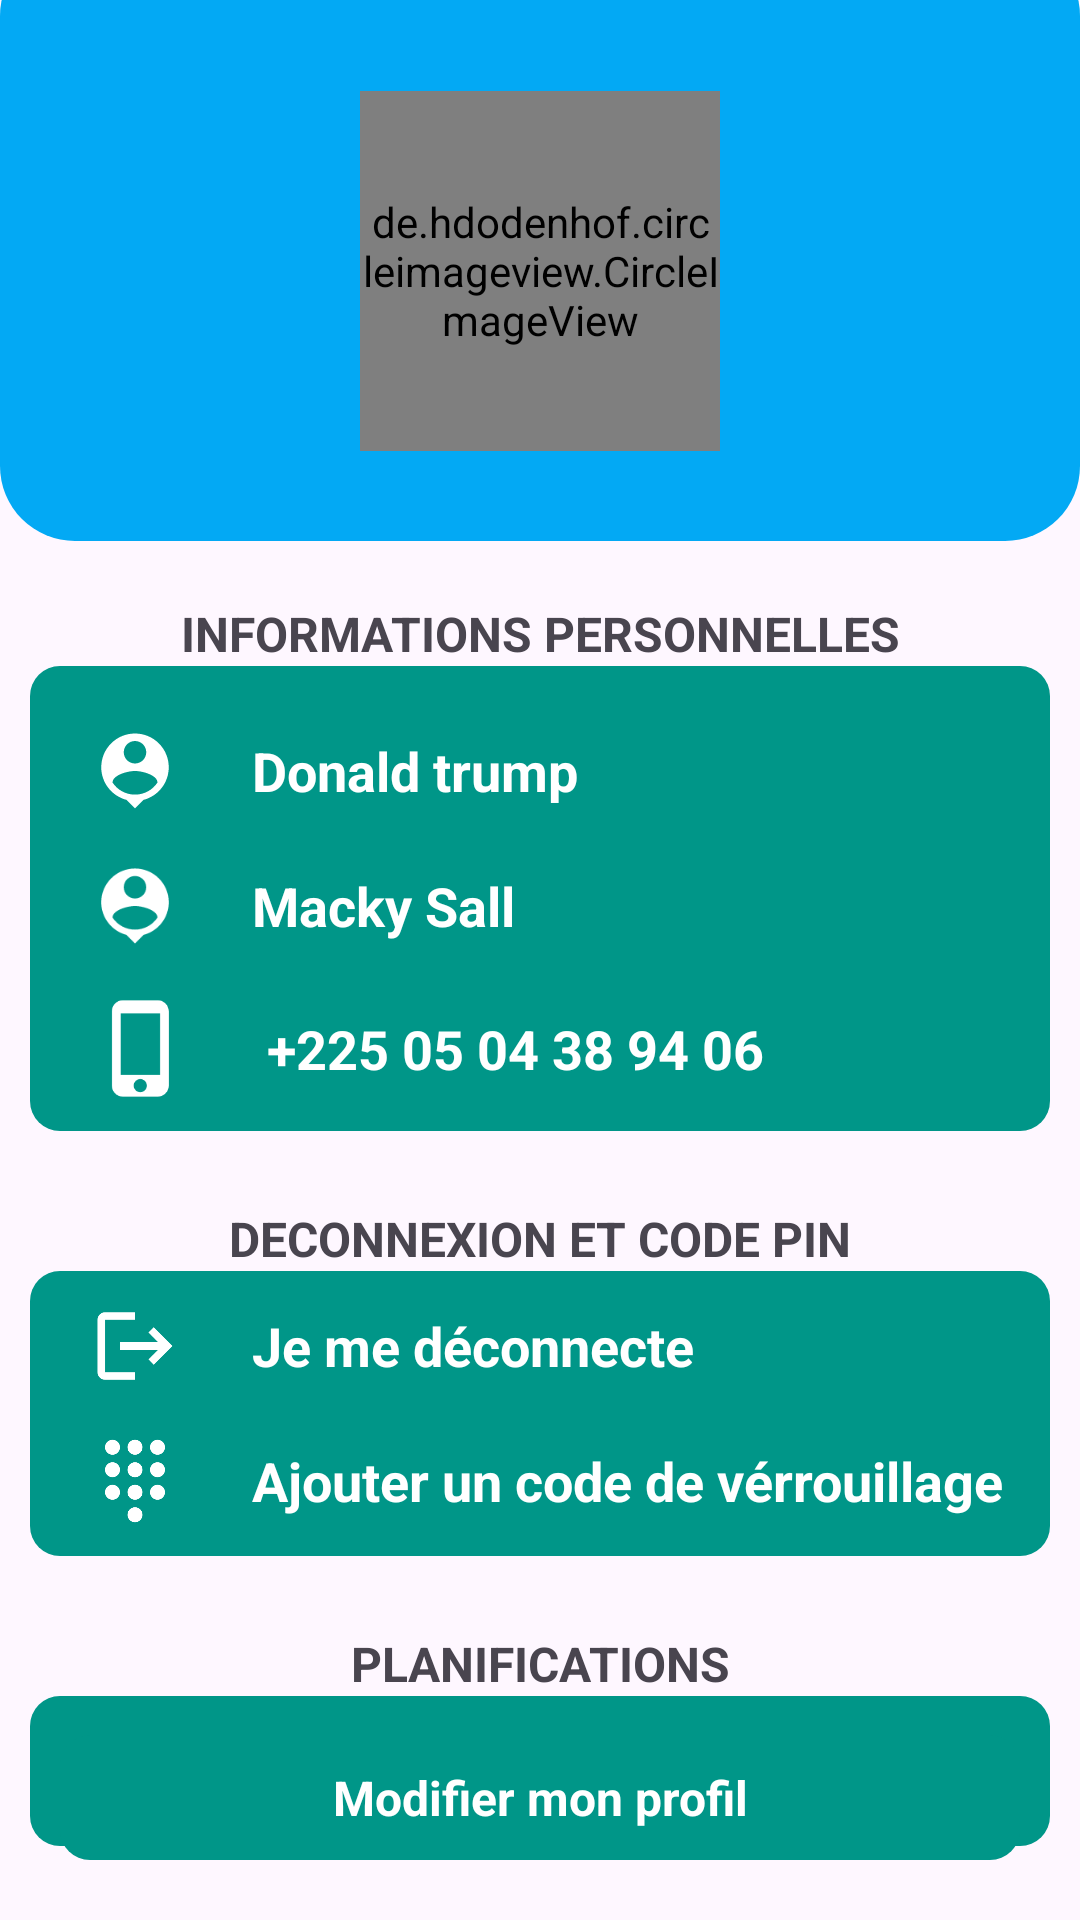

Screen size 1080x1920. Icon name, then its center in pixels as point (x, y):
dial: point (135, 1481)
phone: point (140, 1048)
